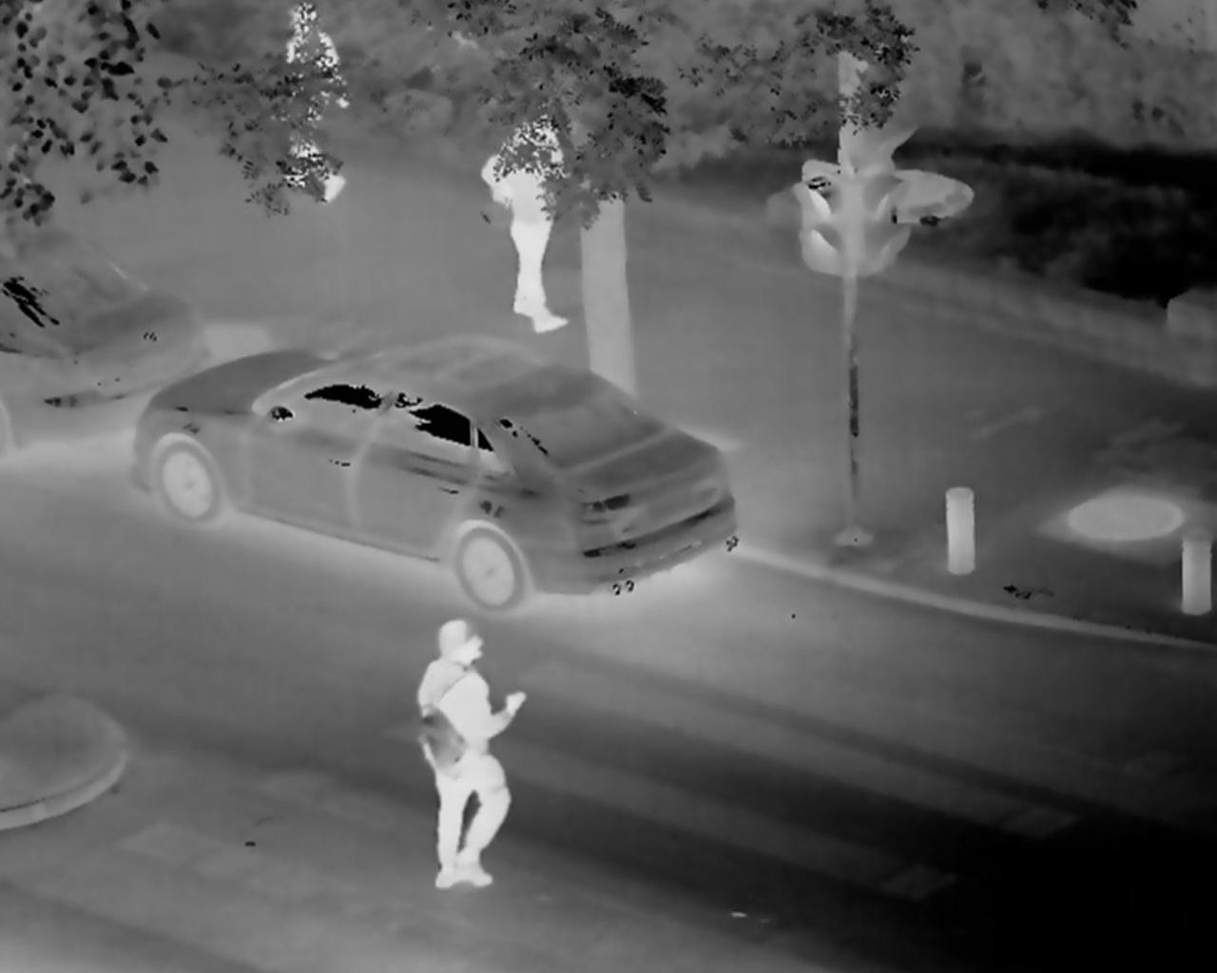person: (405, 617, 529, 907), (491, 85, 577, 336), (270, 2, 351, 202)
